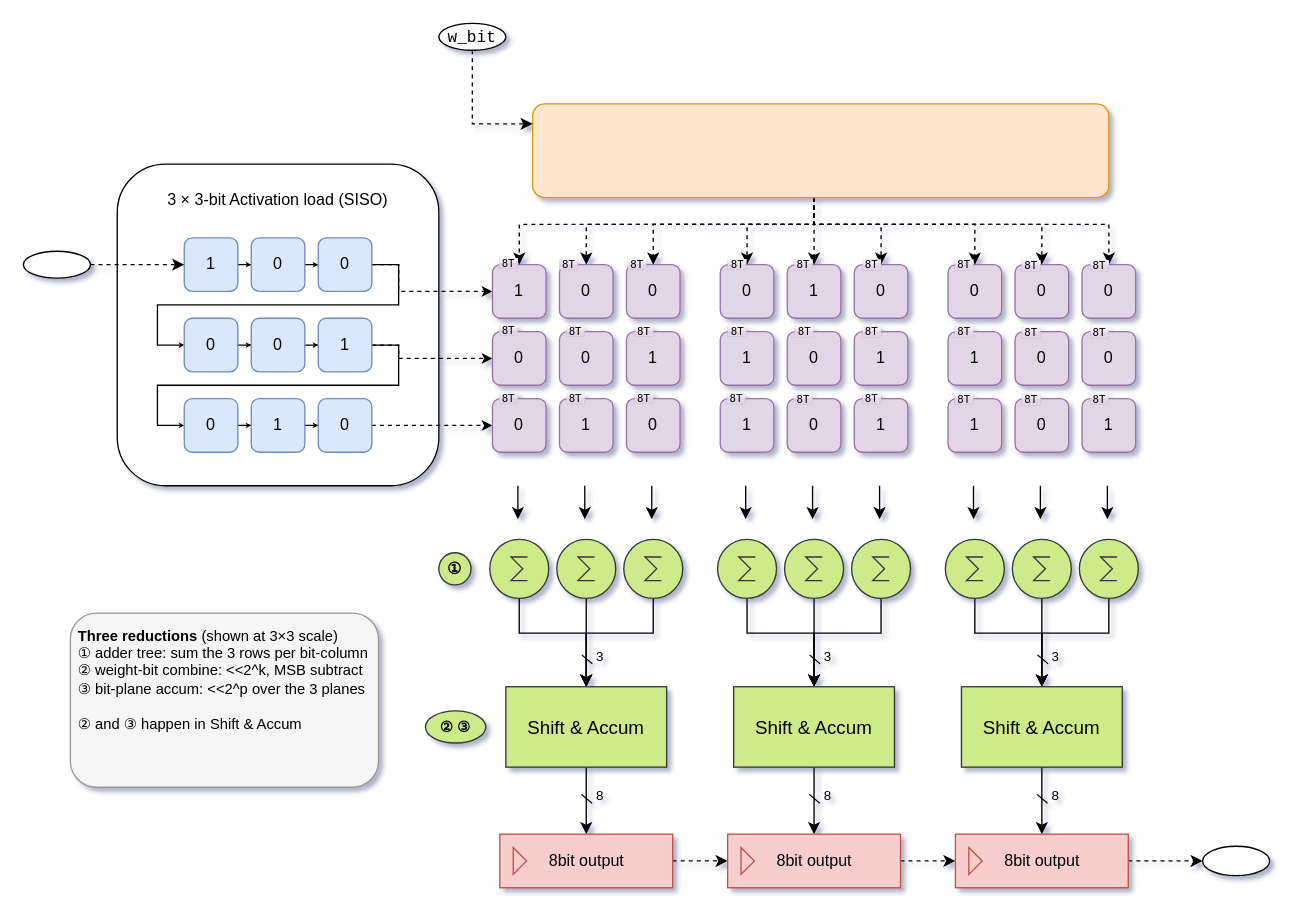
The diagram is 1301 pixels wide and 919 high, and some of its shapes have lost their labels. Each missing label, with the centre of its shape:
"9-bit weight load (SIPO)" belongs at (x=820, y=150).
"a_bit" belongs at (x=56, y=264).
"y_bit" belongs at (x=1235, y=860).
